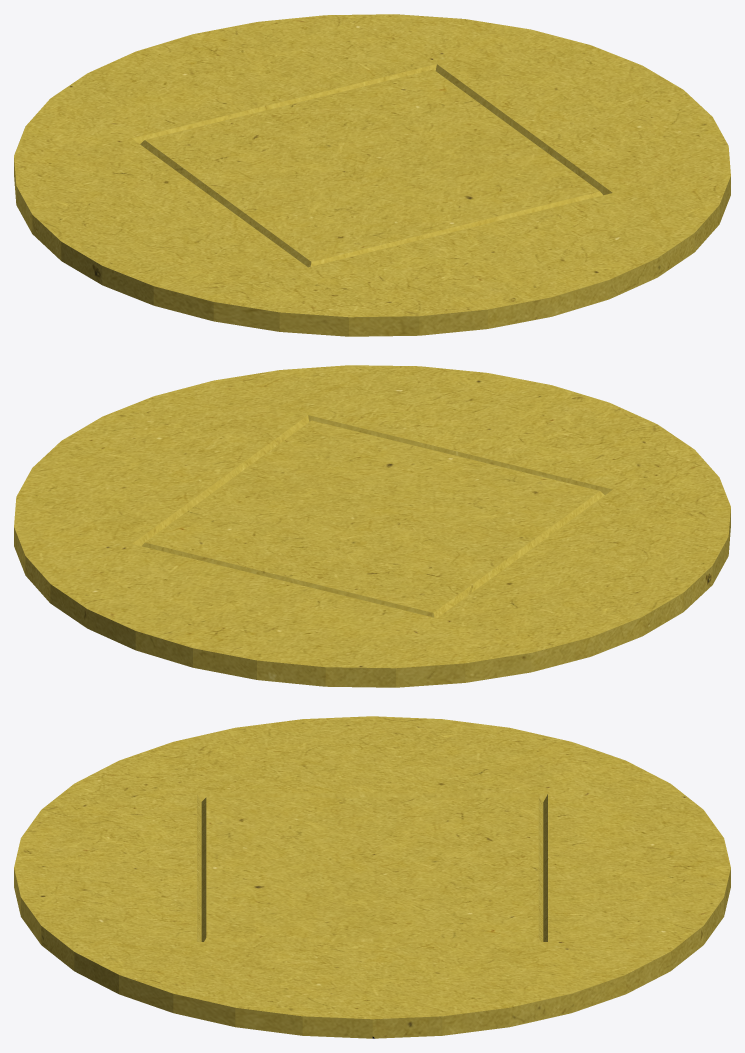
Rendered from dalgona_cookie_square_squid_game_cookies.glb.
The picture shows the model from 3 angles, top to bottom: view 1: azimuth 30°, elevation 25°; view 2: azimuth 150°, elevation 25°; view 3: azimuth 270°, elevation 25°; orthographic projection.
Visible parts, largest first — view 1: Mesh_DalgonaCookieSquare; view 2: Mesh_DalgonaCookieSquare; view 3: Mesh_DalgonaCookieSquare.
Boxes of the visible parts, x1,y1,x2,y2 form: Mesh_DalgonaCookieSquare: (14,14,730,336); Mesh_DalgonaCookieSquare: (14,365,730,687); Mesh_DalgonaCookieSquare: (14,716,730,1038).
Size of the model in its own units: 0.1 by 0.003 by 0.1.
Materials: 1 (1 with a texture image).
